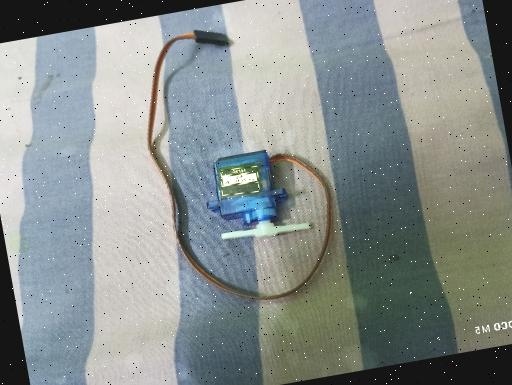Motor: (198, 141, 313, 247)
